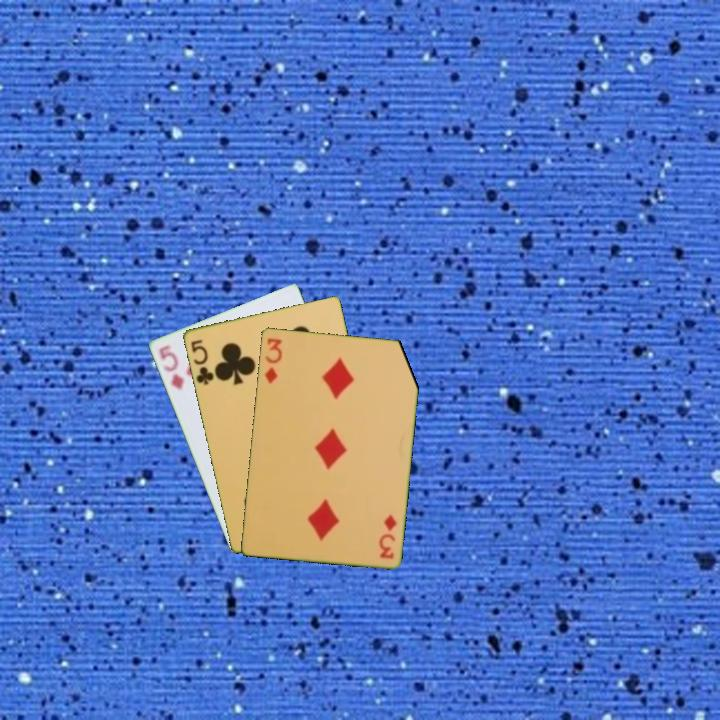3d: (261, 334, 285, 386), (376, 511, 399, 561)
5c: (187, 336, 216, 388)
5d: (155, 341, 187, 392)
